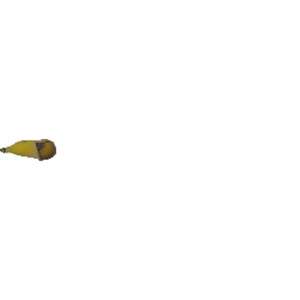banana: (1, 132, 57, 166)
